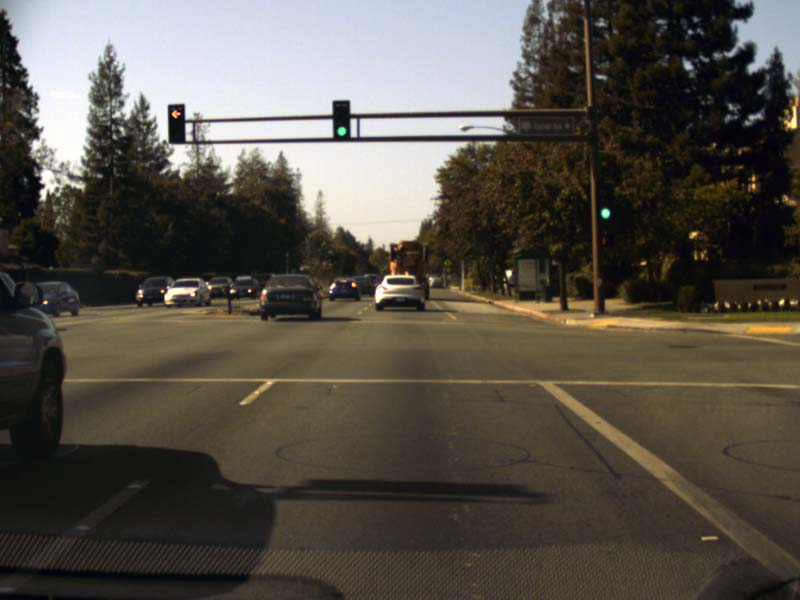Green: (332, 99, 349, 139), (597, 183, 610, 224)
Red: (167, 103, 185, 143)
